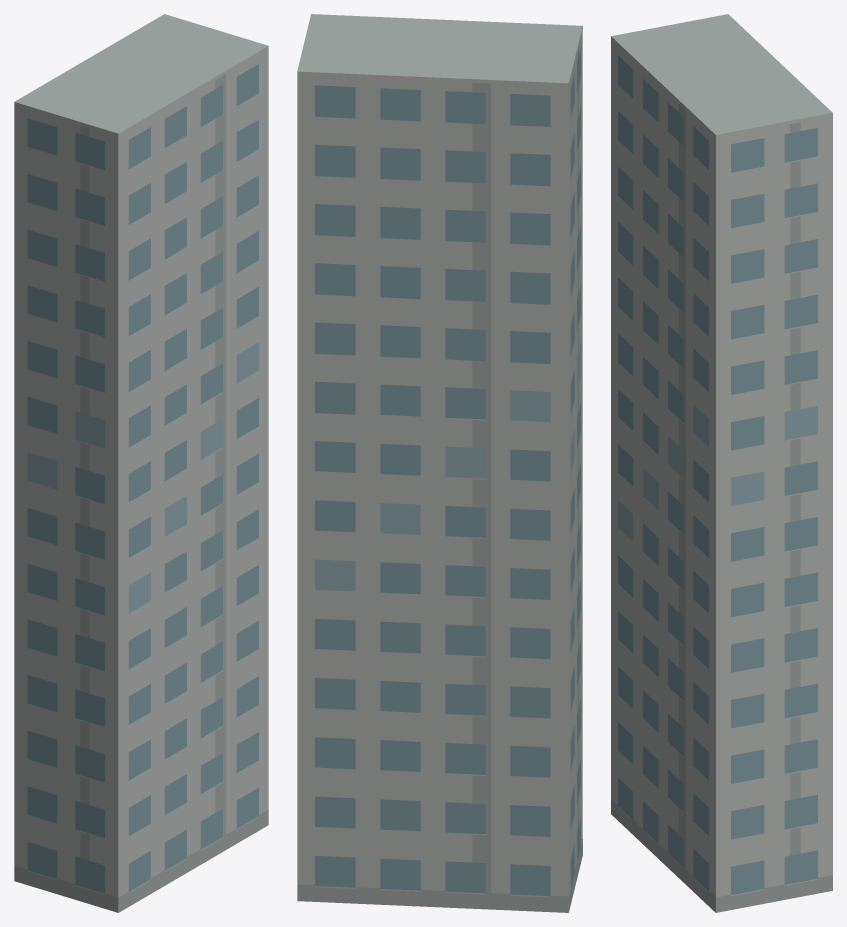
File: residential-49c1bca4-81a4-4f59-ad21-8183e4a5cf84.glb
The picture shows the model from 3 angles, left to right: view 1: azimuth 30°, elevation 25°; view 2: azimuth 150°, elevation 25°; view 3: azimuth 270°, elevation 25°; orthographic projection. The views are drawn at different scales.
Parts seen in each view (by area): view 1: residential-49c1bca4-81a4-4f59-ad21-8183e4a5cf84.tmp; view 2: residential-49c1bca4-81a4-4f59-ad21-8183e4a5cf84.tmp; view 3: residential-49c1bca4-81a4-4f59-ad21-8183e4a5cf84.tmp.
Part boxes in pixels (<box>): residential-49c1bca4-81a4-4f59-ad21-8183e4a5cf84.tmp: <box>14,14,268,912</box>; residential-49c1bca4-81a4-4f59-ad21-8183e4a5cf84.tmp: <box>297,14,582,912</box>; residential-49c1bca4-81a4-4f59-ad21-8183e4a5cf84.tmp: <box>611,14,832,912</box>.
Bounding box in the file's own units: 19.01 × 57 × 14.74.
